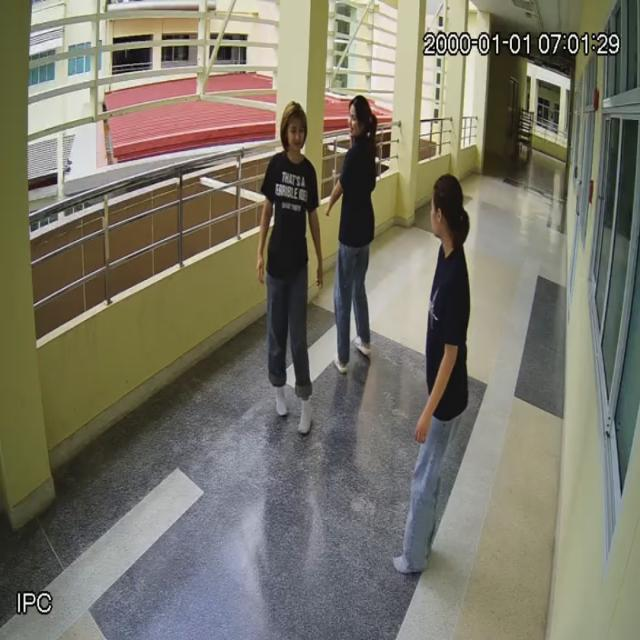normal: (399, 175, 470, 575), (261, 100, 318, 431), (333, 94, 376, 371)
